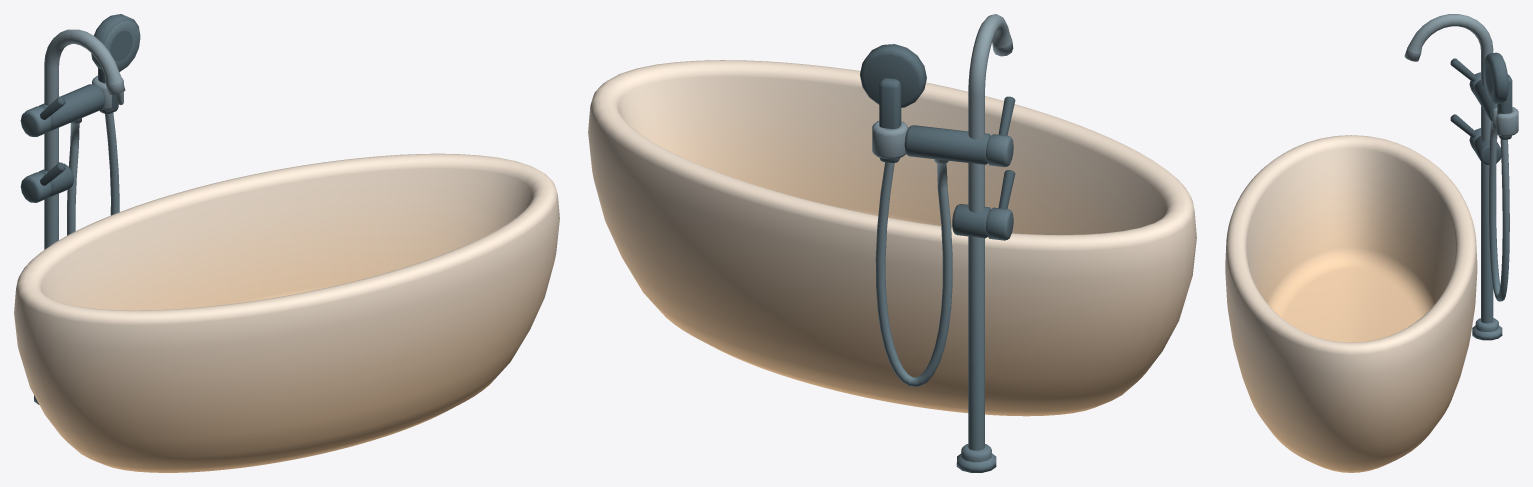
File: Bath_02.glb
3 renders of one model, left to right at view 1: azimuth 30°, elevation 25°; view 2: azimuth 150°, elevation 25°; view 3: azimuth 270°, elevation 25°, orthographic. The views are drawn at different scales.
Parts seen in each view (by area): view 1: Bath_02; view 2: Bath_02; view 3: Bath_02.
Part boxes in pixels (bbox=[...]): Bath_02: bbox=[14, 14, 559, 472]; Bath_02: bbox=[588, 14, 1196, 472]; Bath_02: bbox=[1225, 14, 1518, 472].
Size of the model in its own units: 1.77 by 1.23 by 1.01.
1 material, 1 textured.
